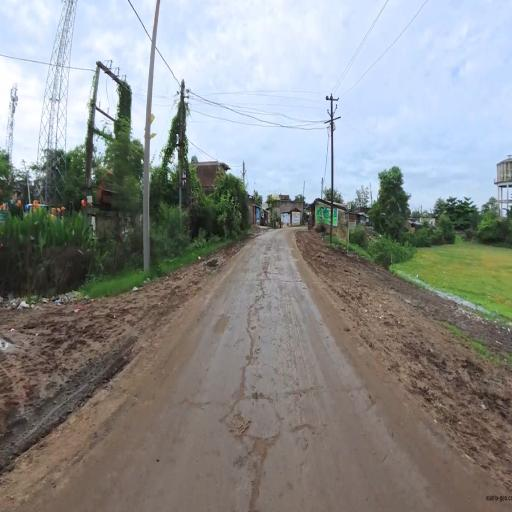longitudinal_crack: (221, 245, 288, 512)
